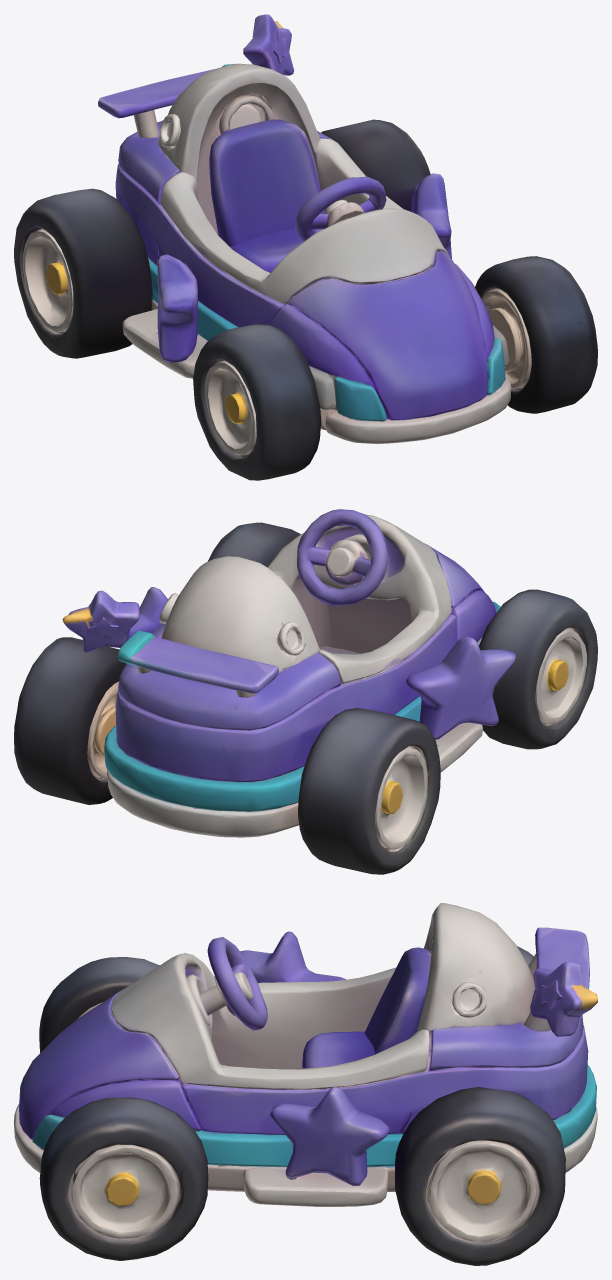
The model's file is nova-cartoon-mobile-decimated.glb.
3 renders of one model, top to bottom at view 1: azimuth 30°, elevation 25°; view 2: azimuth 150°, elevation 25°; view 3: azimuth 270°, elevation 25°, orthographic. The views are drawn at different scales.
Visible parts, largest first — view 1: model; view 2: model; view 3: model.
Part boxes in pixels (<box>): model: <box>14,14,597,480</box>; model: <box>14,509,597,874</box>; model: <box>14,903,597,1265</box>.
Bounding box in the file's own units: 1.41 × 0.9669 × 1.9.
Materials: 1 (1 with a texture image).
